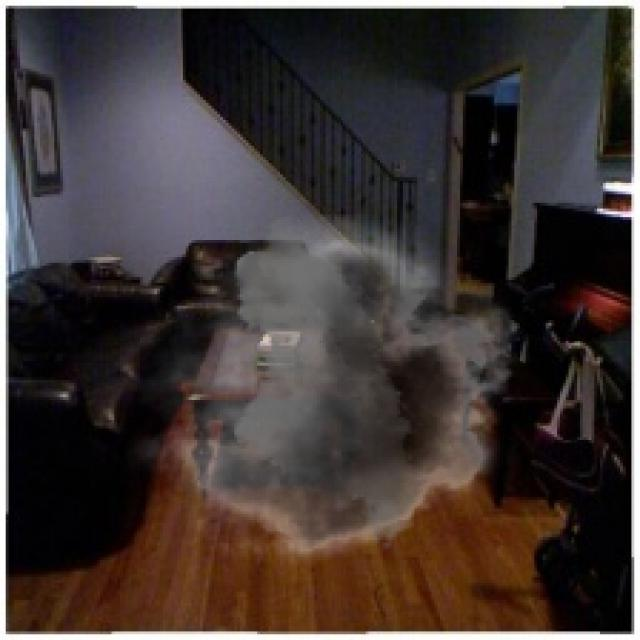smoke: (126, 214, 534, 580)
